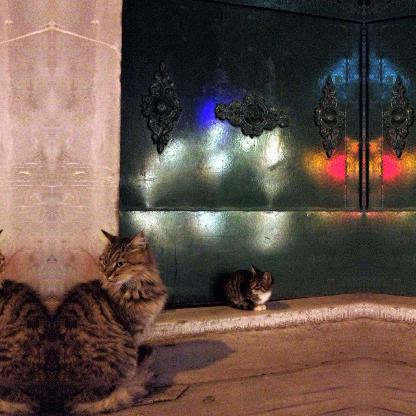Cat: (52, 226, 172, 414), (0, 226, 53, 415), (221, 260, 275, 312)
